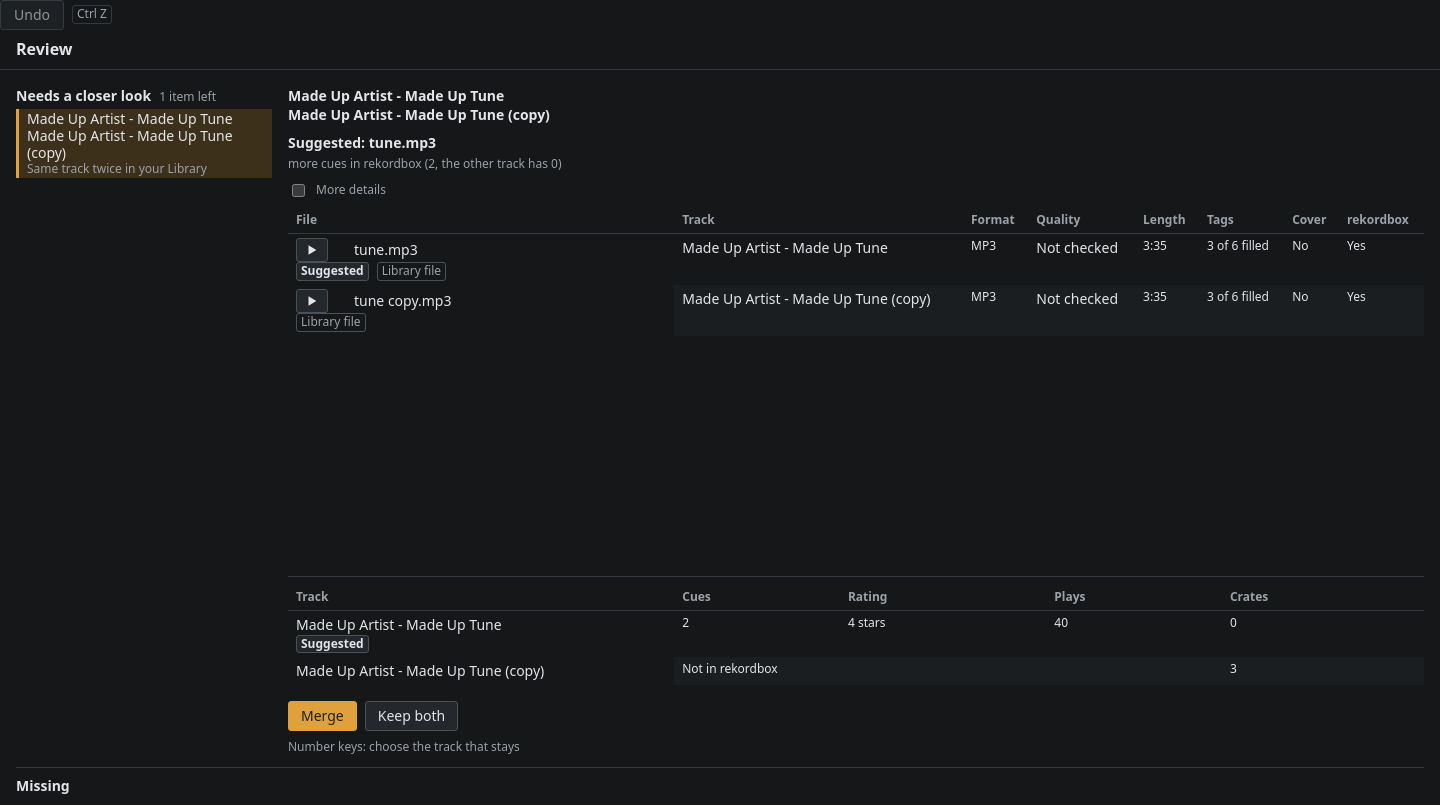
a Same track twice item › says why a merge was refused
Step 1. Click the button "Merge" → (322, 716), box [288, 701, 357, 731]
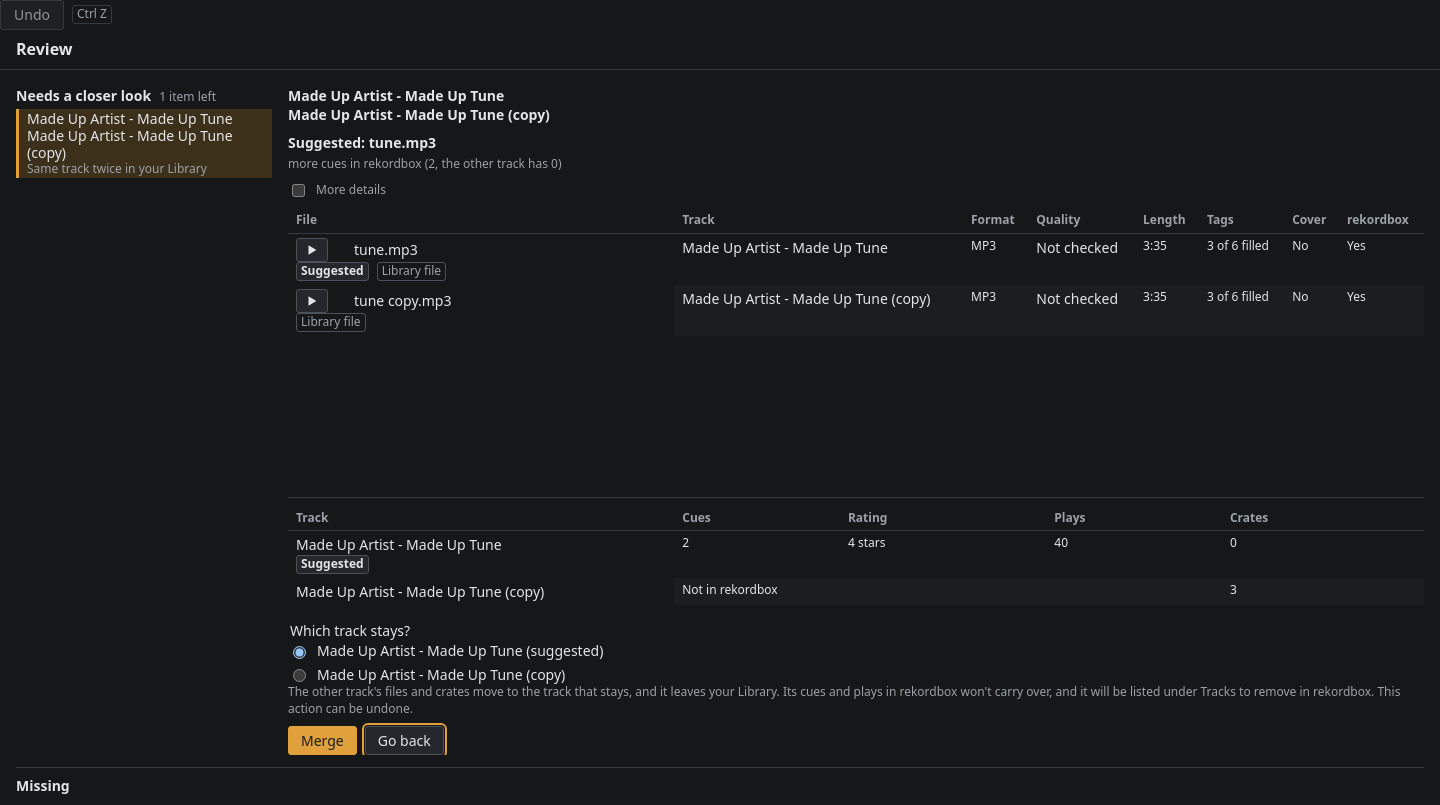
Step 2. Click the button "Merge" → (322, 741), box [288, 726, 357, 755]
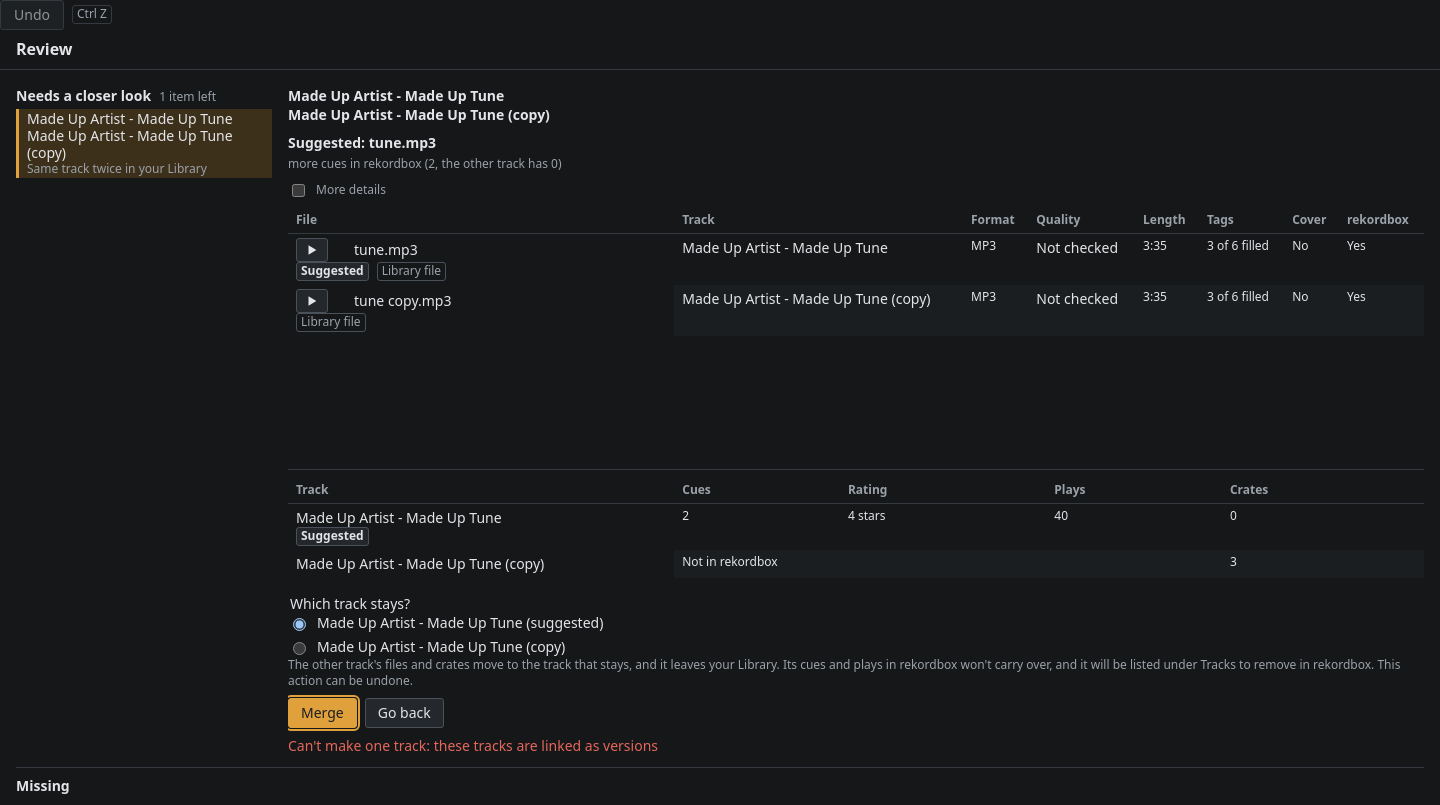
Expected: the message reads "Can't make one track: these tracks are linked as versions", [288, 736, 658, 755]
